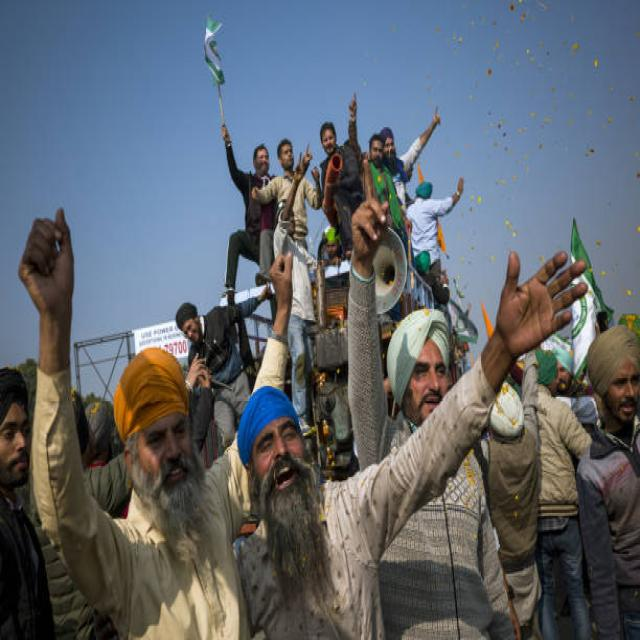civilian: (250, 253, 585, 638), (19, 210, 249, 638), (347, 169, 452, 471), (380, 458, 513, 638), (576, 325, 639, 638), (255, 138, 321, 425), (482, 353, 541, 638), (535, 351, 591, 638), (0, 369, 54, 638), (176, 290, 268, 442), (222, 129, 276, 287), (321, 99, 365, 256), (254, 254, 292, 389), (381, 121, 438, 204), (368, 133, 406, 248), (406, 196, 455, 262)
